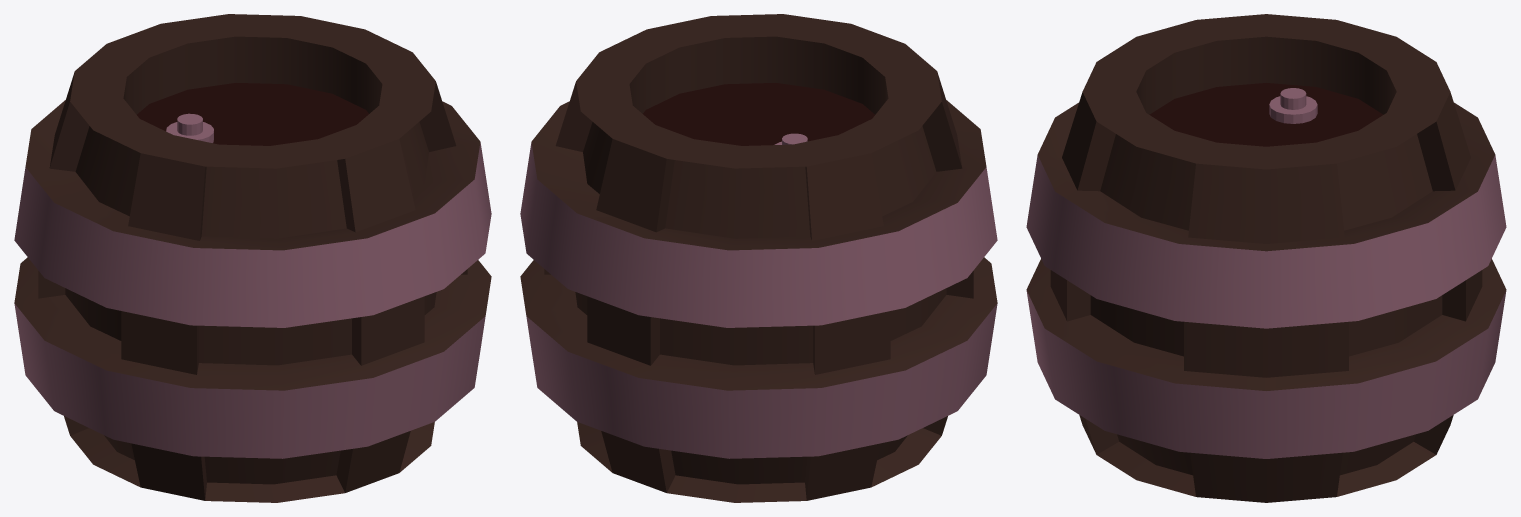
File: Casket.fbx
3 views of the same model, side by side, from view 1: azimuth 30°, elevation 25°; view 2: azimuth 150°, elevation 25°; view 3: azimuth 270°, elevation 25° (orthographic).
Visible parts, largest first — view 1: Cylinder, Circle; view 2: Cylinder; view 3: Cylinder, Circle.
Part boxes in pixels (box(x1,y1,x2,y2)): Cylinder: box(14, 14, 491, 502); Circle: box(166, 113, 213, 142); Cylinder: box(520, 14, 997, 502); Cylinder: box(1026, 14, 1506, 502); Circle: box(1269, 88, 1317, 123).
Size of the model in its own units: 261 by 200 by 261.
